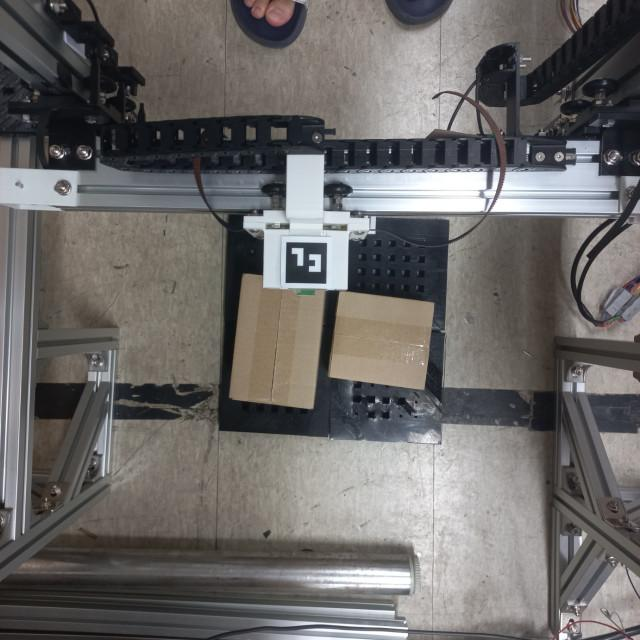box: (324, 284, 434, 394)
